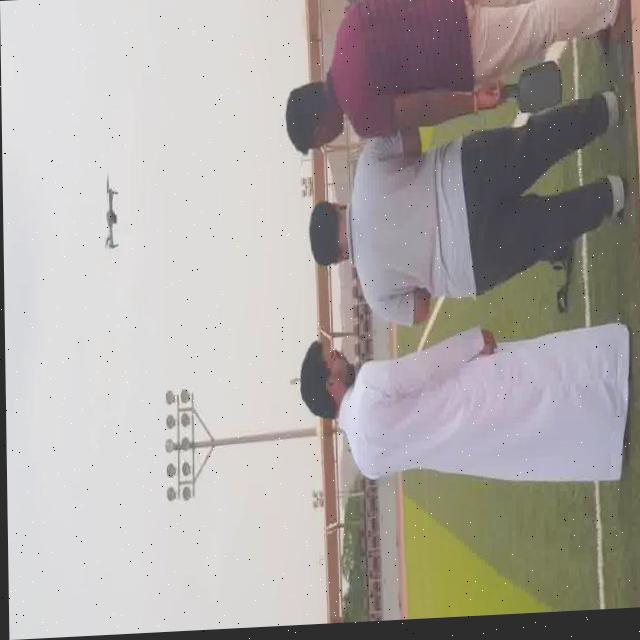drone: (100, 176, 121, 251)
